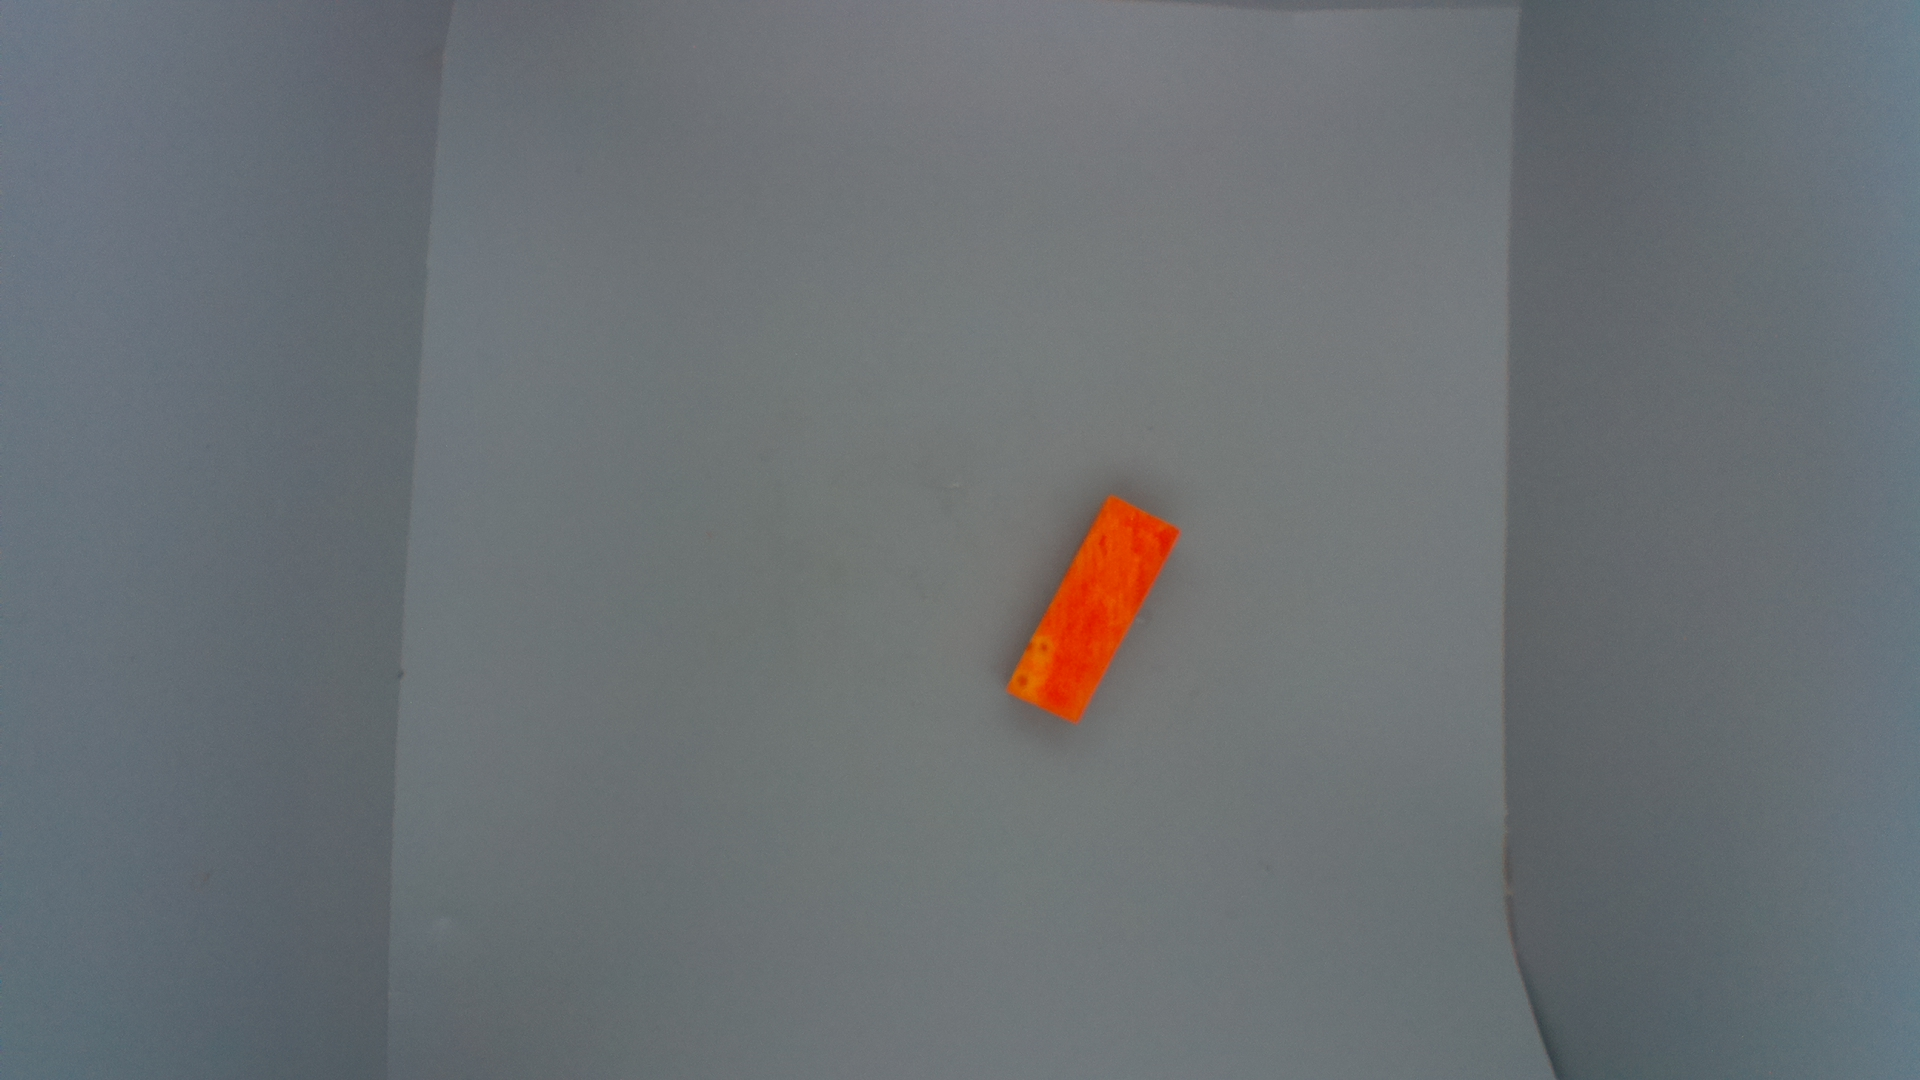carrot: (1007, 491, 1182, 727)
